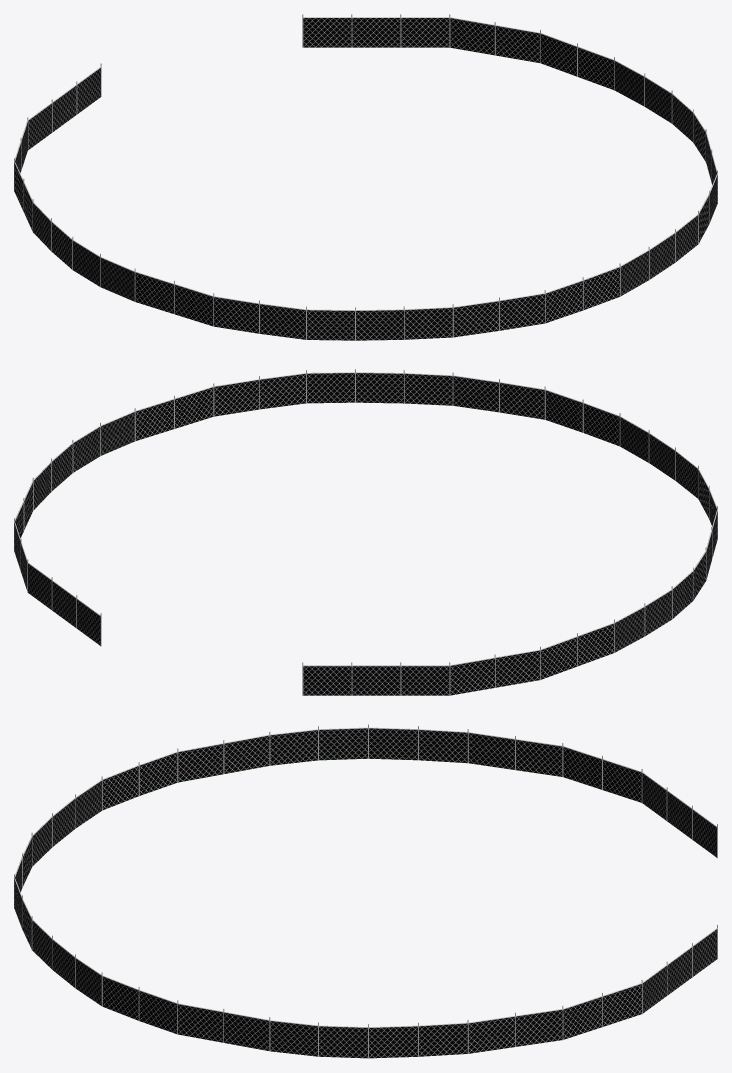
File: City_Wire_Fance_0222.FBX
3 views of the same model, one above another, from view 1: azimuth 30°, elevation 25°; view 2: azimuth 150°, elevation 25°; view 3: azimuth 270°, elevation 25° (orthographic). The views are drawn at different scales.
Visible parts, largest first — view 1: Cylinder020; view 2: Cylinder020; view 3: Cylinder020.
Part boxes in pixels (left/top/right/bottom): Cylinder020: left=14, top=14, right=717, bottom=340; Cylinder020: left=14, top=369, right=717, bottom=695; Cylinder020: left=14, top=724, right=717, bottom=1058.
Bounding box in the file's own units: 5661 × 300 × 5613.
1 material, 1 textured.
